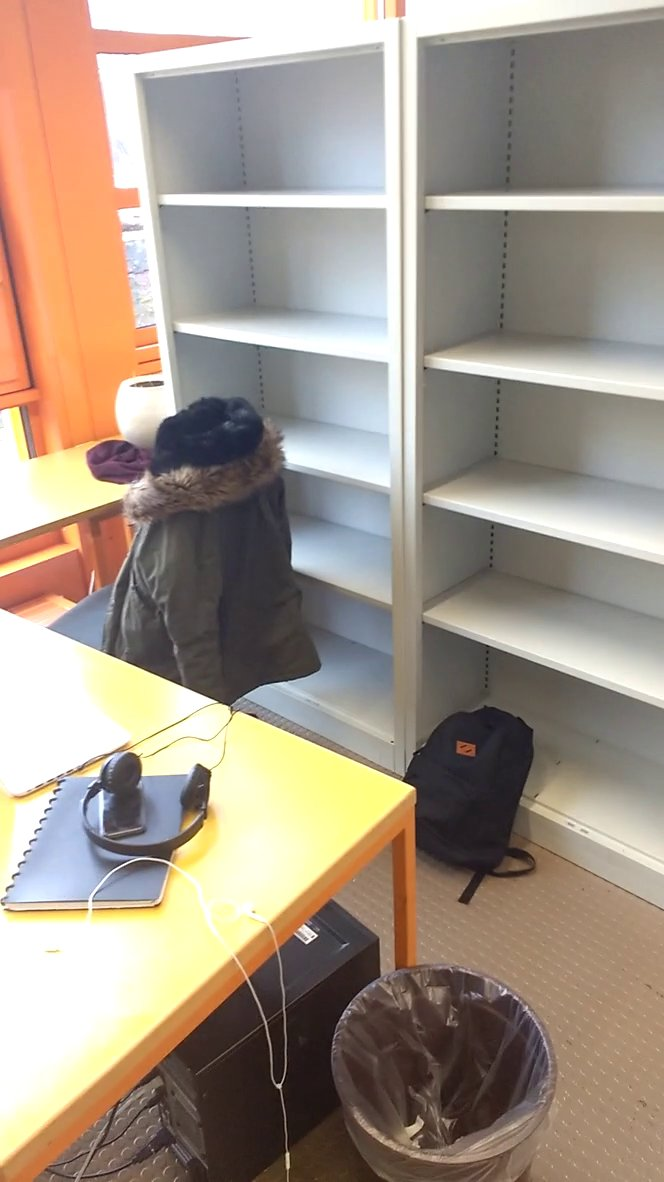bag: (393, 695, 546, 889)
bin: (325, 951, 575, 1182)
